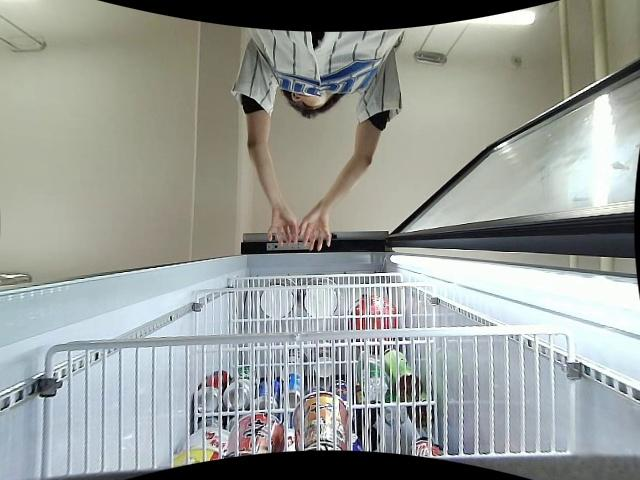00_hand: (266, 201, 299, 247), (301, 203, 332, 251)
